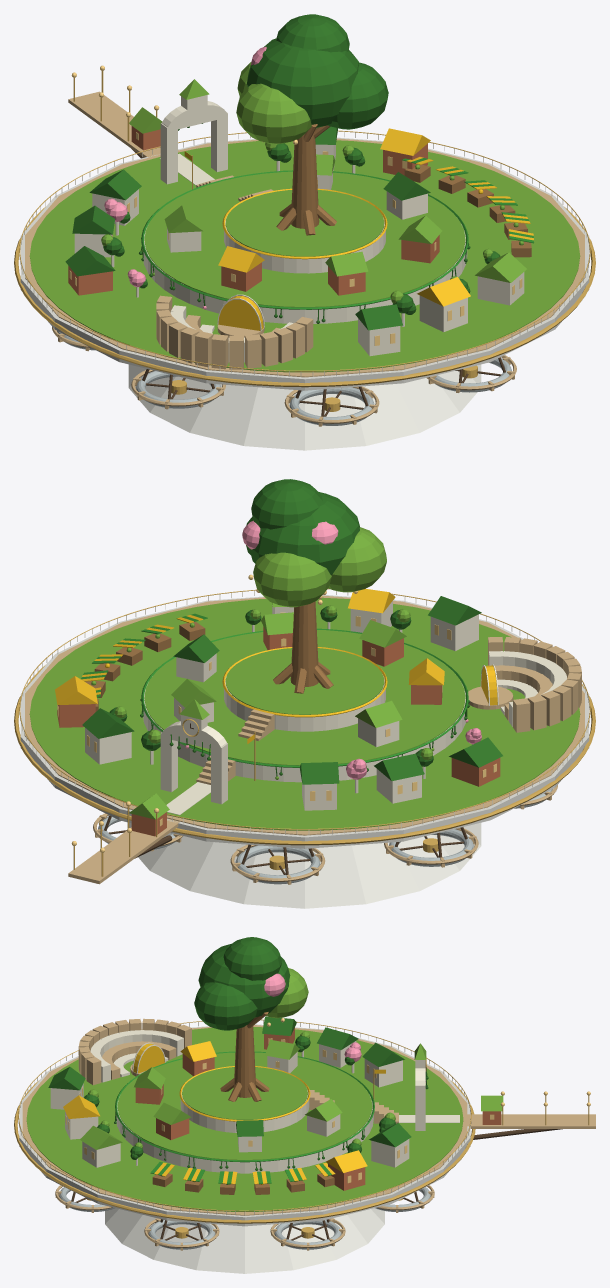
The model's file is station_civil.obj.
3 views of the same model, one above another, from view 1: azimuth 30°, elevation 25°; view 2: azimuth 150°, elevation 25°; view 3: azimuth 270°, elevation 25° (orthographic). The views are drawn at different scales.
Parts seen in each view (by area): view 1: station_civil; view 2: station_civil; view 3: station_civil.
Part boxes in pixels (box(x1,y1,x2,y2)): station_civil: box(14, 14, 595, 450); station_civil: box(14, 479, 595, 908); station_civil: box(14, 937, 595, 1273).
Size of the model in its own units: 1111 by 759 by 1400.
Materials: 1 (1 with a texture image).
